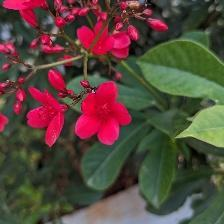jatropha: (76, 81, 134, 148)
